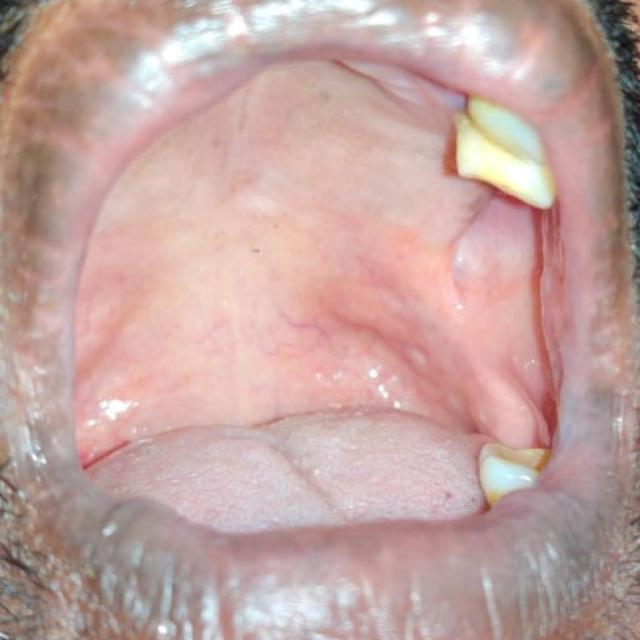No Cancer: (110, 169, 520, 530)
